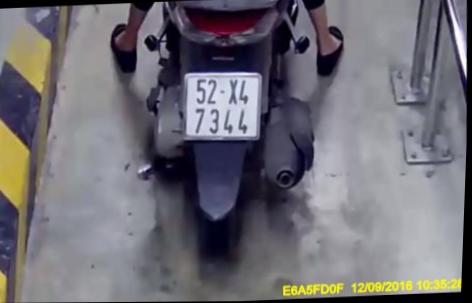LP: (179, 67, 268, 144)
